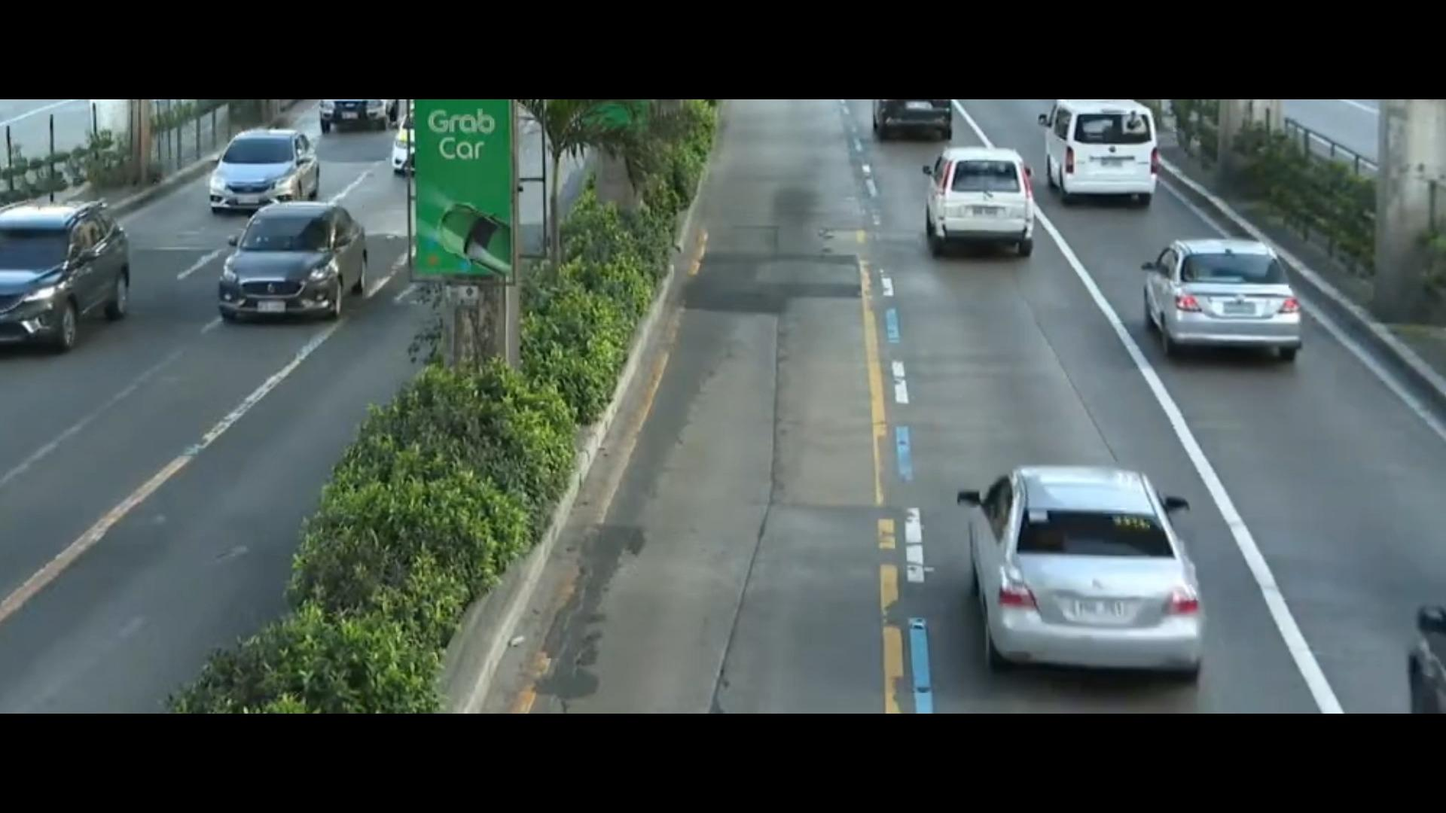SUV: (0, 196, 140, 365)
Sedan: (951, 467, 1245, 694), (1153, 202, 1352, 407), (204, 198, 386, 343), (191, 125, 336, 221)
Van: (1036, 89, 1171, 235), (912, 134, 1049, 274)
